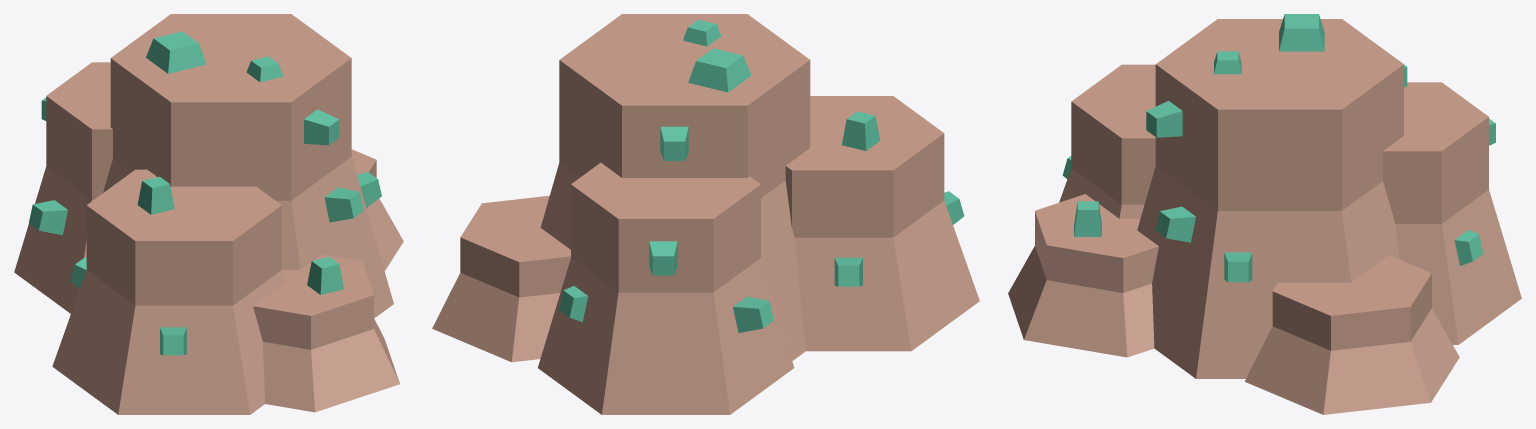
File: rock_crystalsLargeA.glb
The picture shows the model from 3 angles, left to right: view 1: azimuth 30°, elevation 25°; view 2: azimuth 150°, elevation 25°; view 3: azimuth 270°, elevation 25°; orthographic projection. The views are drawn at different scales.
Visible parts, largest first — view 1: rock_crystalsLargeA; view 2: rock_crystalsLargeA; view 3: rock_crystalsLargeA.
Part boxes in pixels (x1,y1,x2,y2): rock_crystalsLargeA: (14,14,403,414); rock_crystalsLargeA: (432,14,979,414); rock_crystalsLargeA: (1008,14,1521,414).
Size of the model in its own units: 0.8339 by 0.541 by 0.9193.
